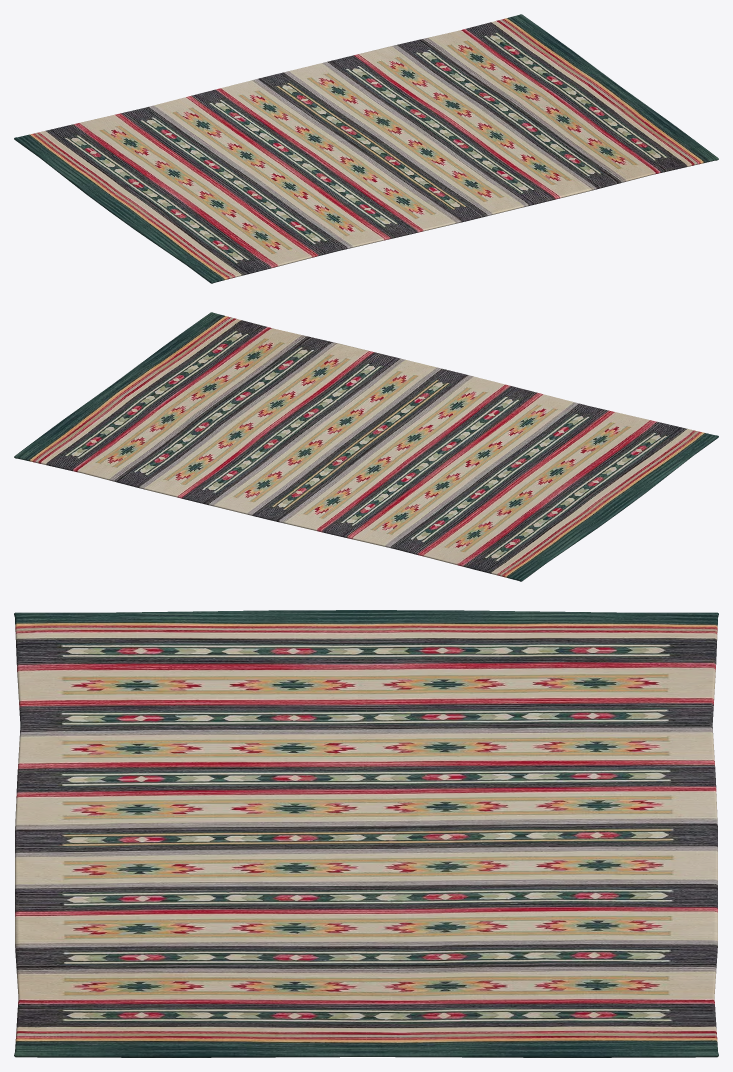
The model's file is B07B51XCGS.glb.
3 renders of one model, top to bottom at view 1: azimuth 30°, elevation 25°; view 2: azimuth 150°, elevation 25°; view 3: azimuth 270°, elevation 25°, orthographic. The views are drawn at different scales.
Visible parts, largest first — view 1: RootNode; view 2: RootNode; view 3: RootNode.
Boxes of the visible parts, box(x1,y1,x2,y2) form: RootNode: box(14, 14, 718, 283); RootNode: box(14, 312, 718, 581); RootNode: box(14, 610, 718, 1057).
Bounding box in the file's own units: 1.82 × 0.00869 × 1.22.
1 material, 1 textured.
